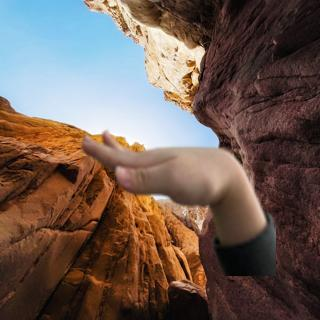Wait: (73, 119, 251, 215)
